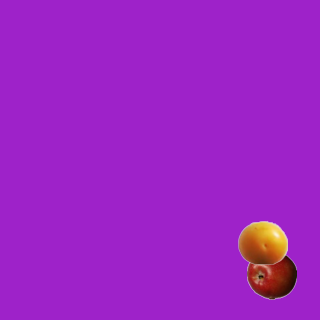Apple Braeburn: (246, 249, 296, 299)
Cherry Wax Yellow: (237, 217, 287, 267)
